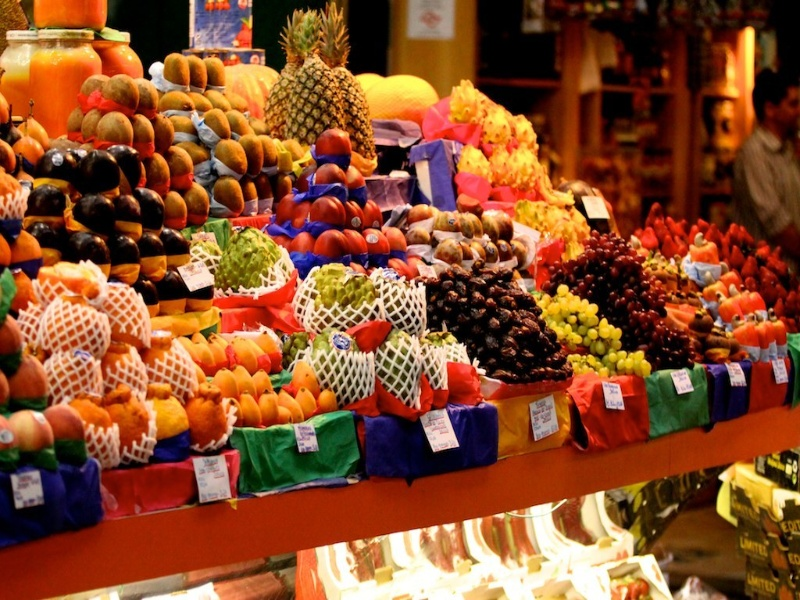apple: (276, 167, 411, 262), (312, 126, 363, 167)
